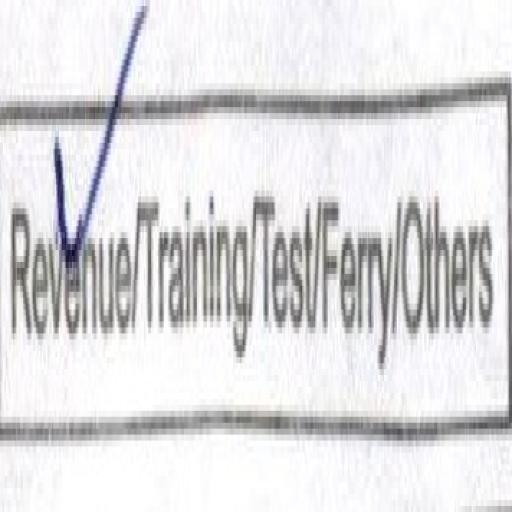check: (3, 32, 132, 503)
